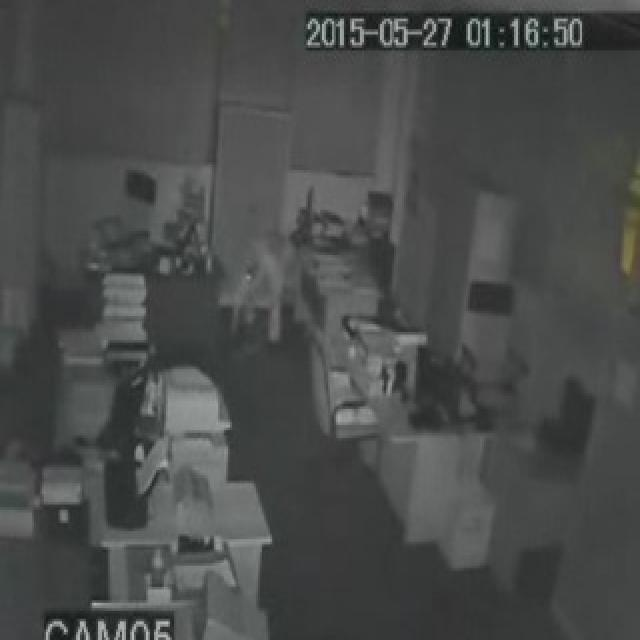thief: (229, 217, 296, 349)
